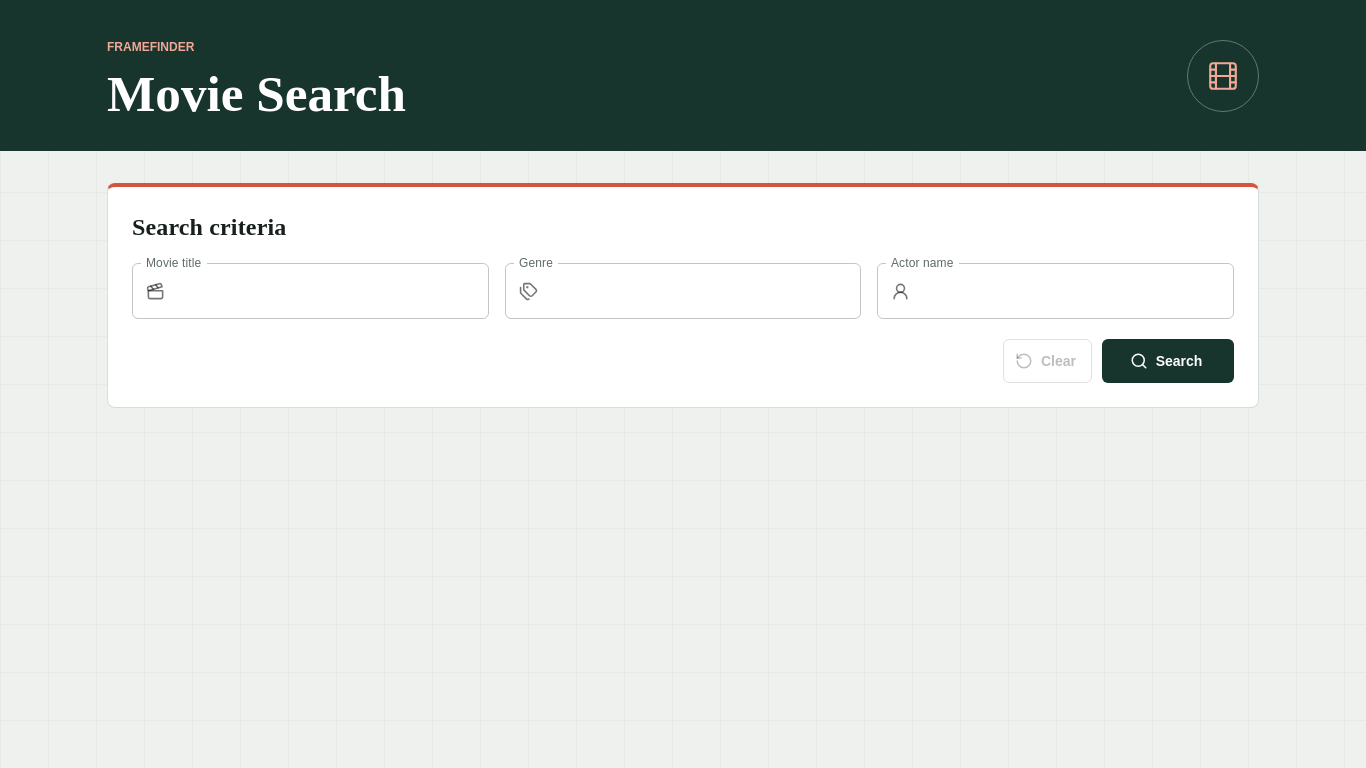
Scenario: MovieSearchPage › displays the API problem detail when search fails
Click the button "Search": x=1168, y=361 [1102, 339, 1234, 383]
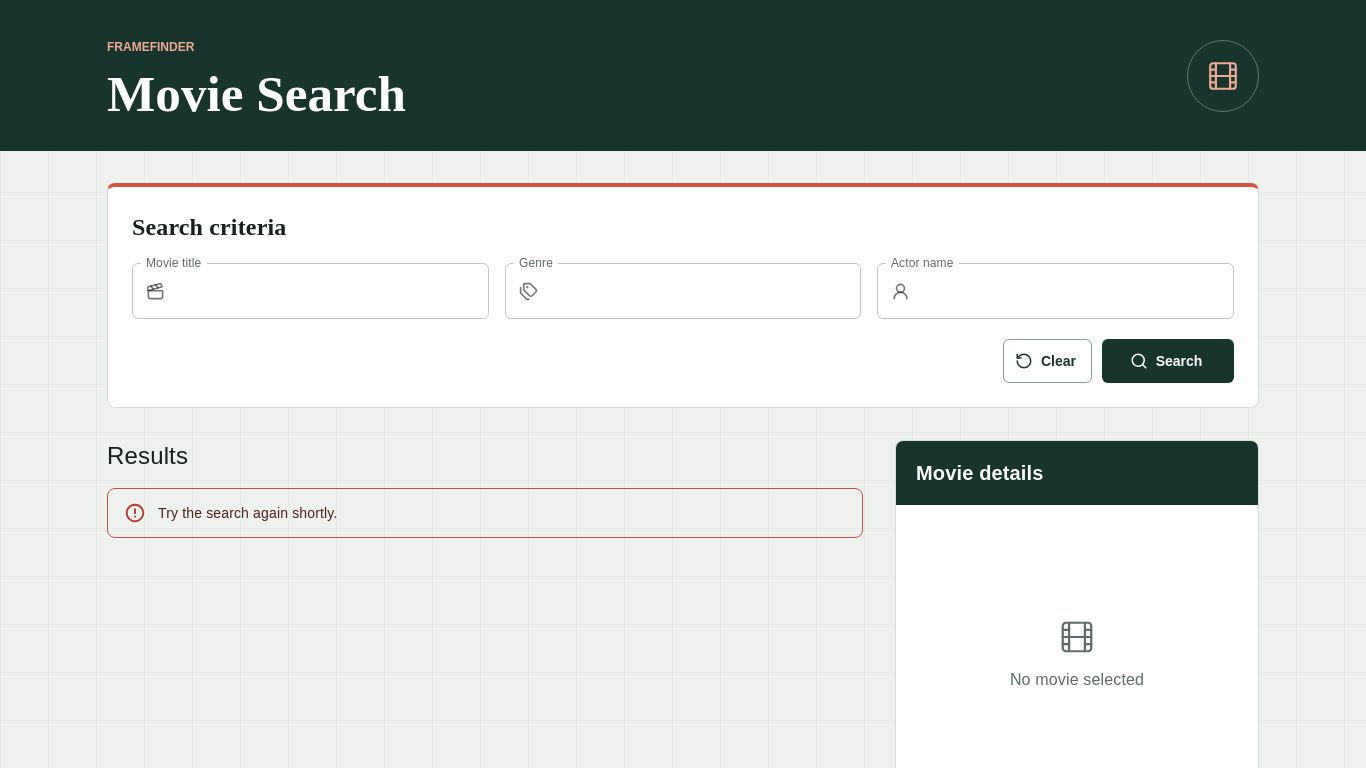
Expected: the message reads "Try the search again shortly.", [158, 505, 337, 521]
Click the button "Search": x=1168, y=361 [1102, 339, 1234, 383]
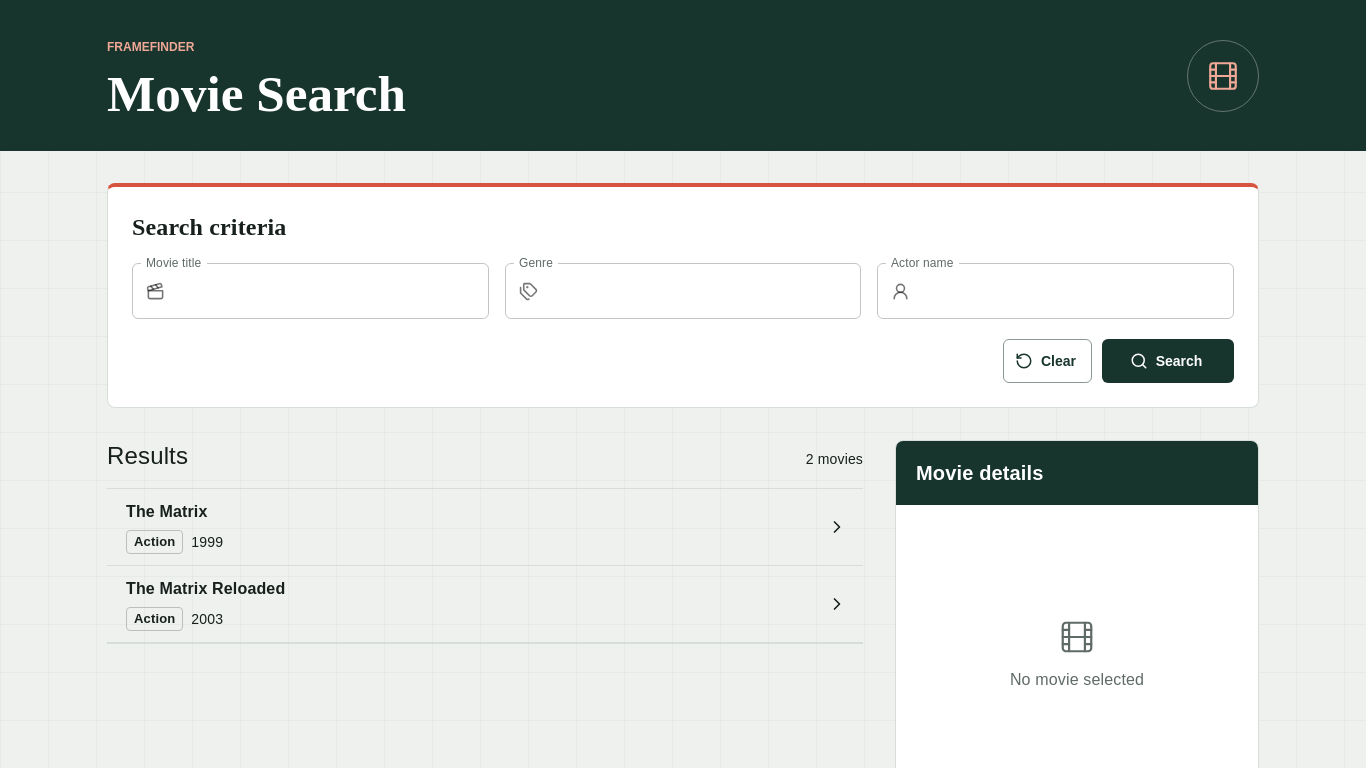
Expected: the text "2 movies" is shown, [806, 449, 863, 469]
